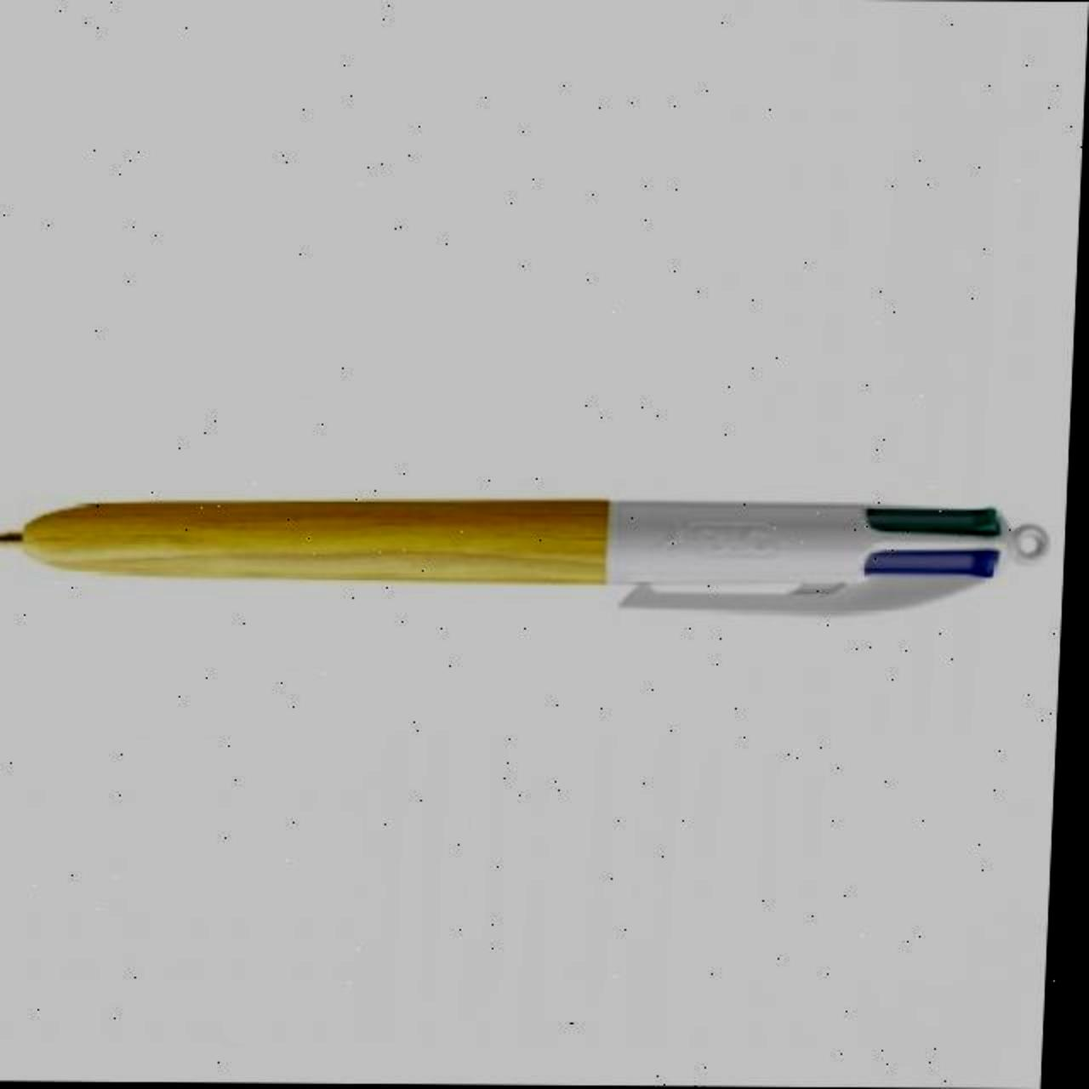pen: (0, 492, 1060, 621)
